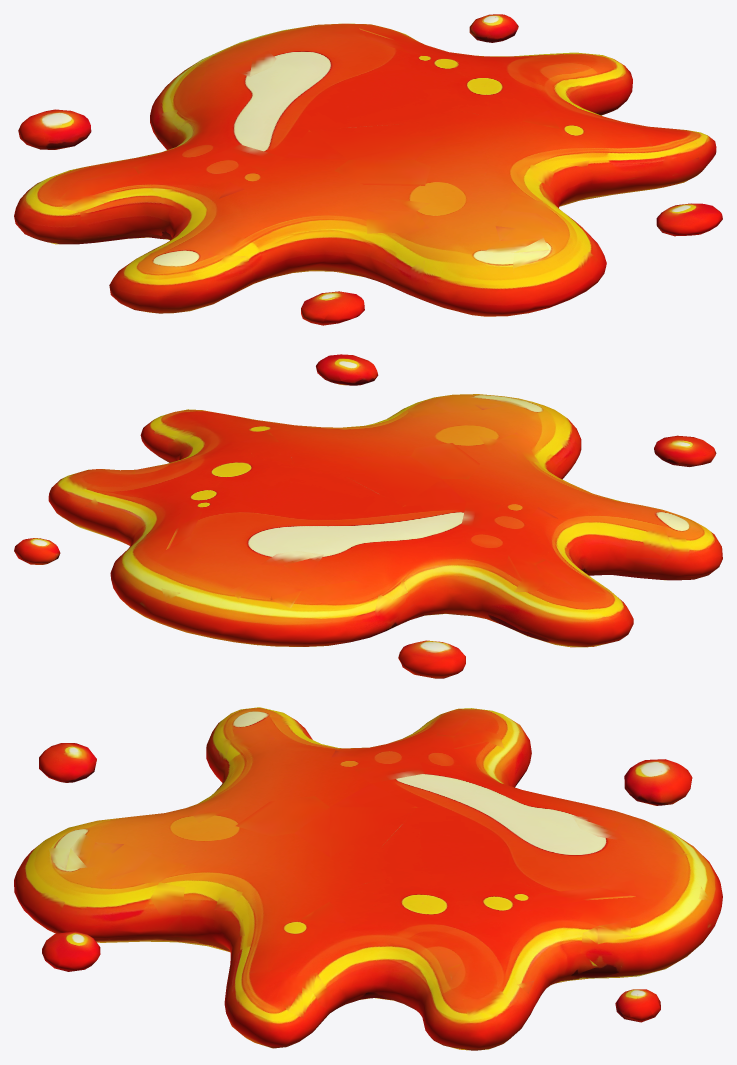
The picture shows the model from 3 angles, top to bottom: view 1: azimuth 30°, elevation 25°; view 2: azimuth 150°, elevation 25°; view 3: azimuth 270°, elevation 25°; orthographic projection. The views are drawn at different scales.
Size of the model in its own units: 1.91 by 0.2207 by 1.78.
Materials: 1 (1 with a texture image).
